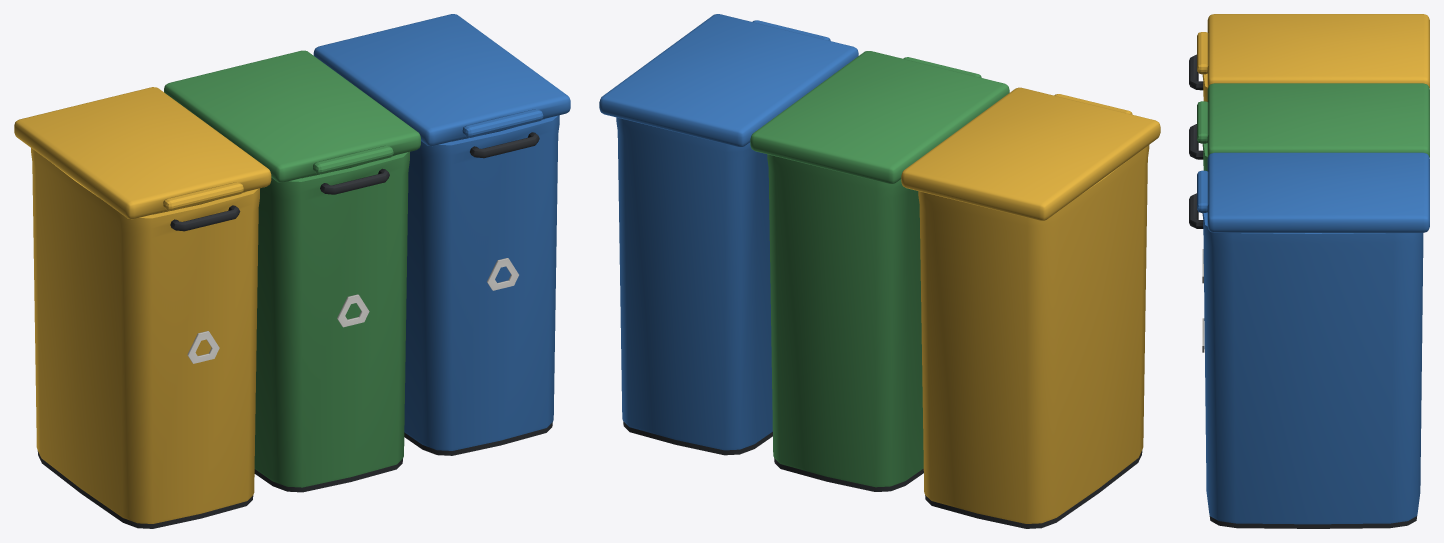
File: recyclingBins.glb
The picture shows the model from 3 angles, left to right: view 1: azimuth 30°, elevation 25°; view 2: azimuth 150°, elevation 25°; view 3: azimuth 270°, elevation 25°; orthographic projection. The views are drawn at different scales.
Visible parts, largest first — view 1: body, lid2, lid0, lid1; view 2: body, lid2, lid0, lid1; view 3: body, lid0, lid1, lid2.
Boxes of the visible parts, box(x1,y1,x2,y2) form: body: box(31, 115, 559, 528); lid2: box(14, 87, 271, 219); lid0: box(313, 14, 570, 146); lid1: box(164, 50, 420, 182); body: box(616, 117, 1149, 528); lid2: box(901, 87, 1160, 220); lid0: box(599, 14, 858, 147); lid1: box(750, 51, 1009, 183); body: box(1189, 54, 1423, 528); lid0: box(1197, 152, 1429, 232); lid1: box(1197, 83, 1429, 157); lid2: box(1197, 14, 1429, 88).
Bounding box in the file's own units: 0.92 × 0.66 × 0.455.
